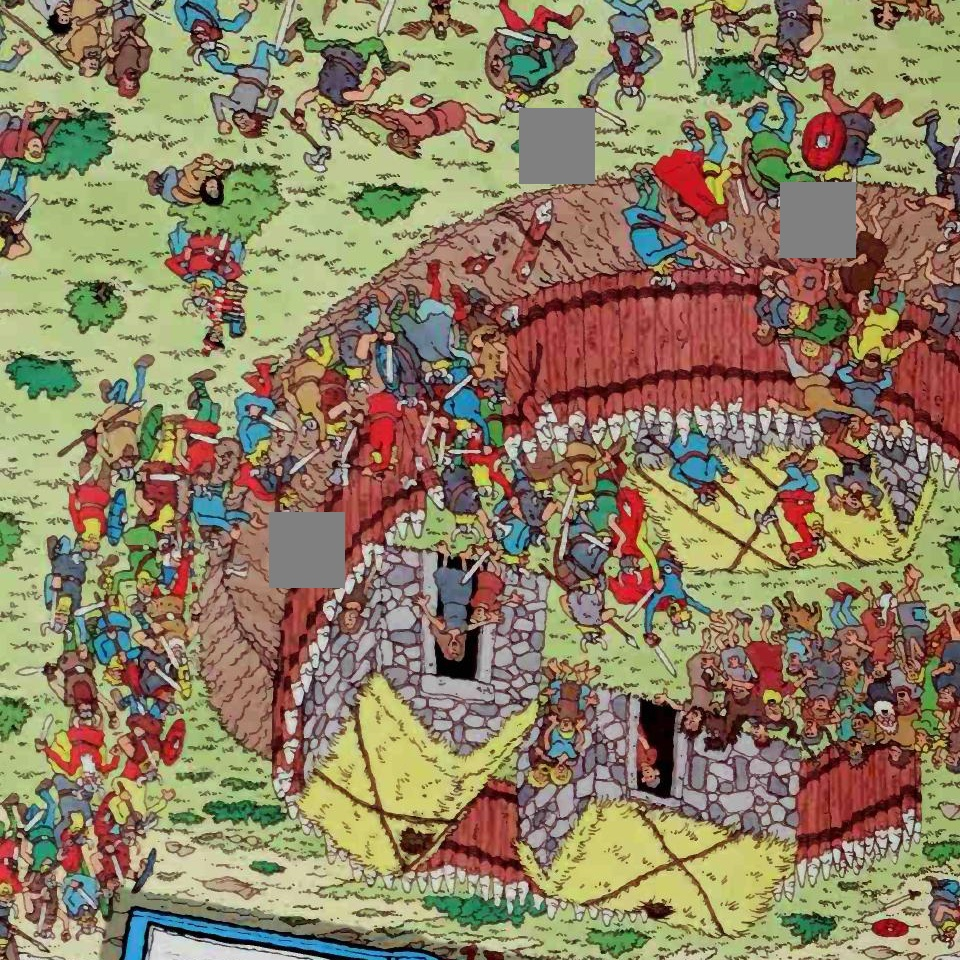waldo: (190, 322, 229, 361)
